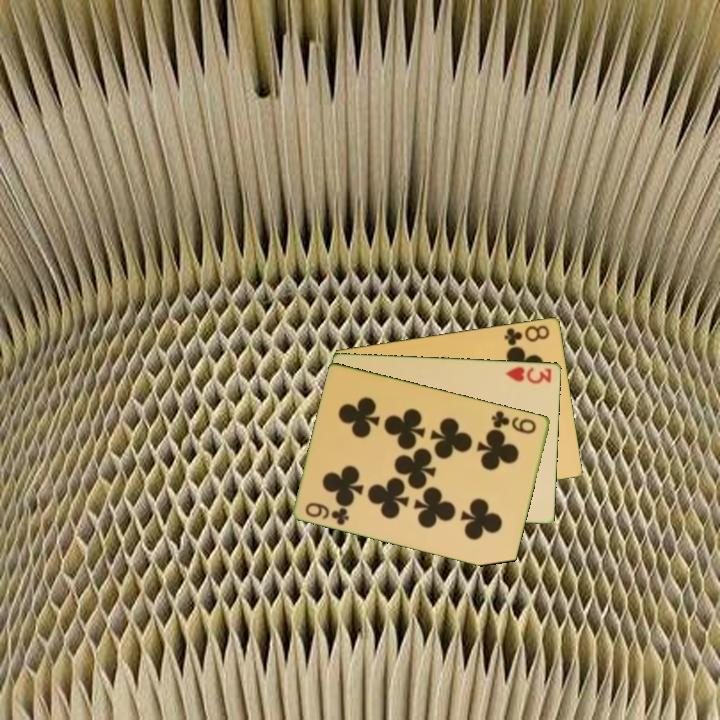3h: (502, 363, 554, 386)
8c: (501, 321, 553, 348)
9c: (488, 407, 539, 437), (302, 498, 352, 528)
